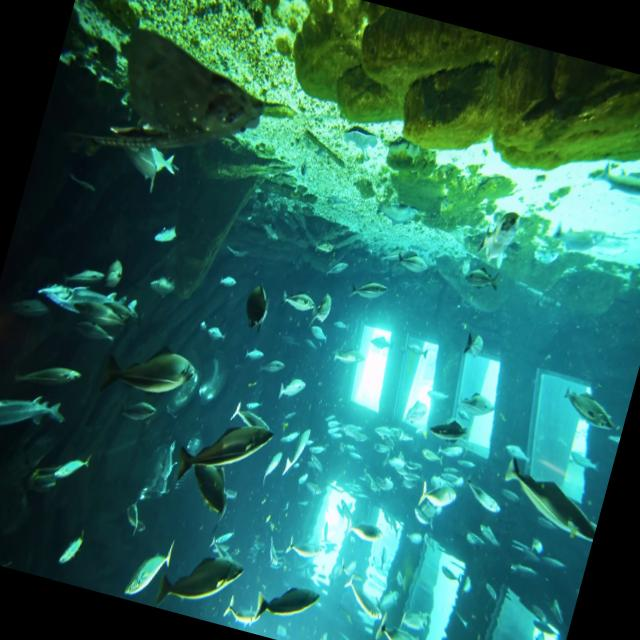fish: (488, 454, 608, 552), (165, 400, 276, 498), (93, 332, 207, 426), (0, 356, 93, 468), (151, 527, 246, 626), (24, 258, 132, 334), (248, 560, 332, 638), (111, 528, 182, 610), (548, 372, 624, 448), (173, 446, 241, 527), (25, 437, 96, 512), (442, 378, 516, 436), (338, 560, 392, 628), (236, 274, 282, 342), (271, 276, 323, 332), (276, 527, 328, 575), (422, 405, 472, 453), (344, 272, 392, 314), (302, 284, 340, 336), (373, 610, 430, 640)
